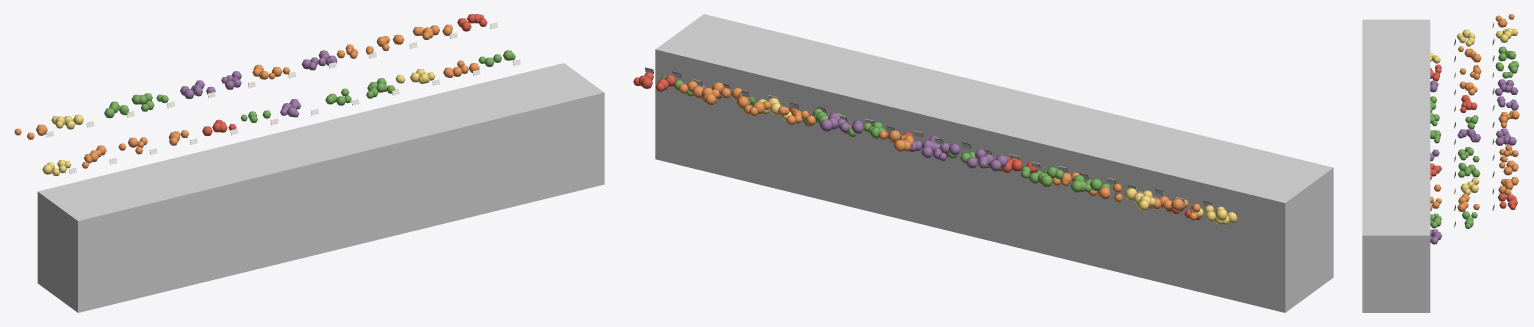
File: sf08_goods.gltf
3 renders of one model, left to right at view 1: azimuth 30°, elevation 25°; view 2: azimuth 150°, elevation 25°; view 3: azimuth 270°, elevation 25°, orthographic. The views are drawn at different scales.
Parts seen in each view (by area): view 1: sf08_goods_COL, sf08_goods_LOD0; view 2: sf08_goods_COL, sf08_goods_LOD0; view 3: sf08_goods_COL, sf08_goods_LOD0.
Part boxes in pixels (box(x1,y1,x2,y2)): sf08_goods_COL: box(37, 63, 604, 312); sf08_goods_LOD0: box(14, 14, 520, 175); sf08_goods_COL: box(655, 14, 1333, 312); sf08_goods_LOD0: box(633, 67, 1237, 224); sf08_goods_COL: box(1362, 19, 1430, 312); sf08_goods_LOD0: box(1430, 14, 1519, 244).
Size of what is drawn, in the model's own units: 6 by 1.26 by 1.85.
Materials: 1 (1 with a texture image).
